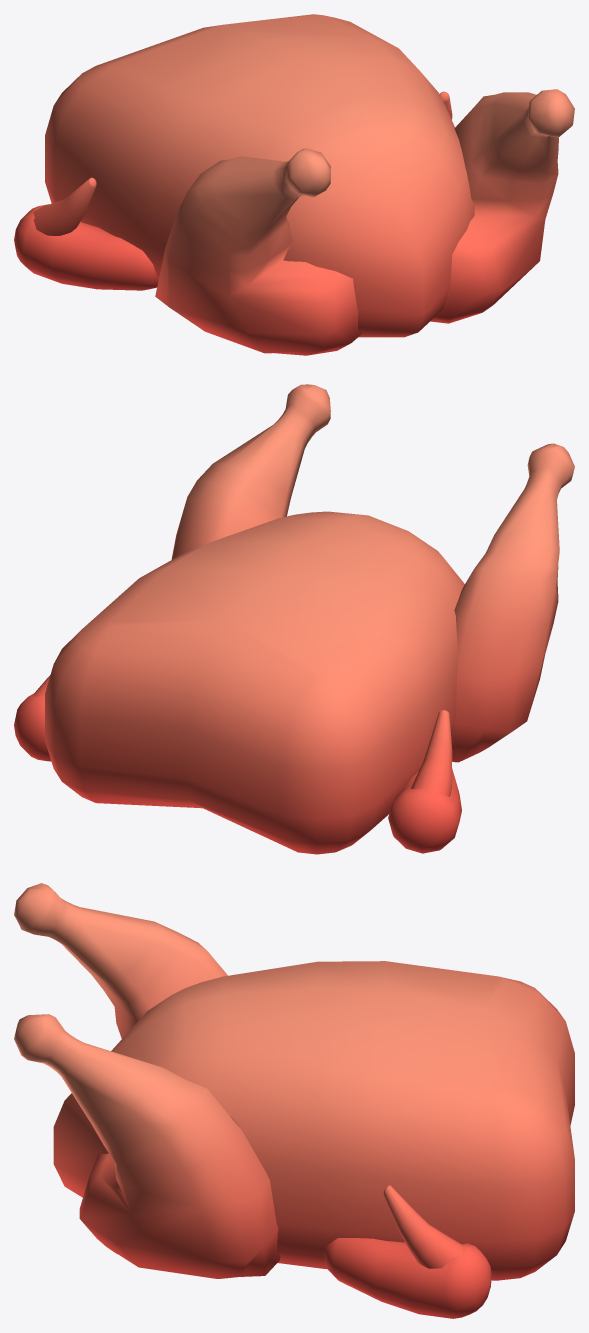
Rendered from Сhicken_carcass_01.fbx.
The picture shows the model from 3 angles, top to bottom: view 1: azimuth 30°, elevation 25°; view 2: azimuth 150°, elevation 25°; view 3: azimuth 270°, elevation 25°; orthographic projection. The views are drawn at different scales.
Parts seen in each view (by area): view 1: Сhicken_carcass_01; view 2: Сhicken_carcass_01; view 3: Сhicken_carcass_01.
Part boxes in pixels (bbox=[...]): Сhicken_carcass_01: bbox=[14, 14, 574, 355]; Сhicken_carcass_01: bbox=[14, 384, 574, 854]; Сhicken_carcass_01: bbox=[14, 883, 574, 1318].
Bounding box in the file's own units: 282 × 291 × 153.
